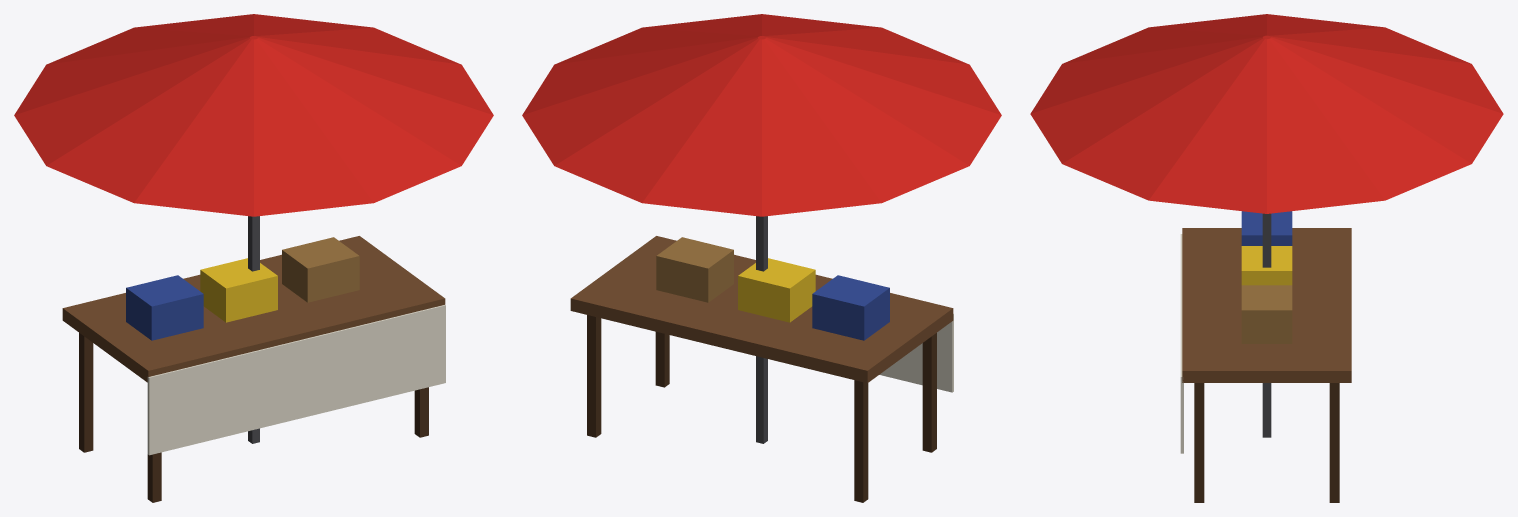
File: market_stall_red.glb
The picture shows the model from 3 angles, left to right: view 1: azimuth 30°, elevation 25°; view 2: azimuth 150°, elevation 25°; view 3: azimuth 270°, elevation 25°; orthographic projection.
Visible parts, largest first — view 1: market_stall_red; view 2: market_stall_red; view 3: market_stall_red.
Part boxes in pixels (<box>): market_stall_red: <box>14,14,493,502</box>; market_stall_red: <box>522,14,1001,502</box>; market_stall_red: <box>1030,14,1503,502</box>.
Bounding box in the file's own units: 2.8 × 2.6 × 2.8.
